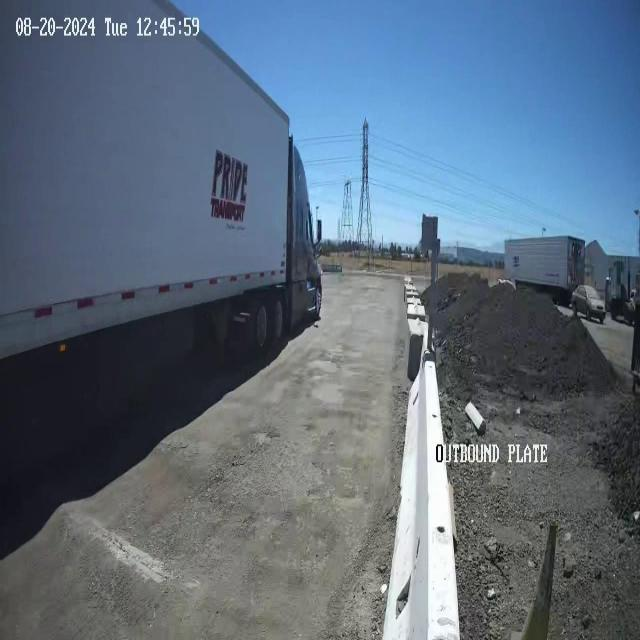TRUCK_CONTAINER: (1, 0, 324, 368)
